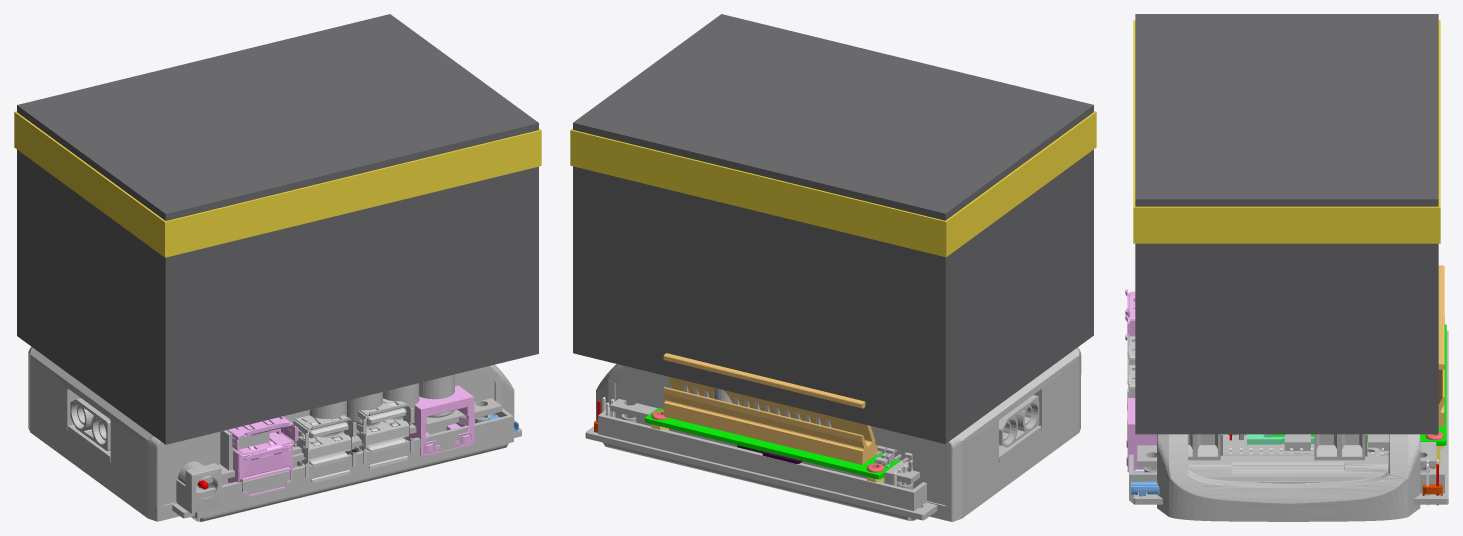
File: composants.glb
3 renders of one model, left to right at view 1: azimuth 30°, elevation 25°; view 2: azimuth 150°, elevation 25°; view 3: azimuth 270°, elevation 25°, orthographic.
Parts seen in each view (by area): view 1: batterie, dcc, jetson; view 2: batterie, jetson, dcc; view 3: batterie, jetson, dcc.
Part boxes in pixels (box(x1,y1,x2,y2)): batterie: box(14, 14, 541, 521); dcc: box(191, 374, 513, 521); jetson: box(172, 385, 521, 518); batterie: box(570, 14, 1096, 521); jetson: box(585, 353, 937, 520); dcc: box(598, 385, 926, 520); batterie: box(1133, 14, 1440, 521); jetson: box(1125, 265, 1448, 505); dcc: box(1129, 317, 1444, 503).
Size of the model in its own units: 111 by 89 by 80.98.
